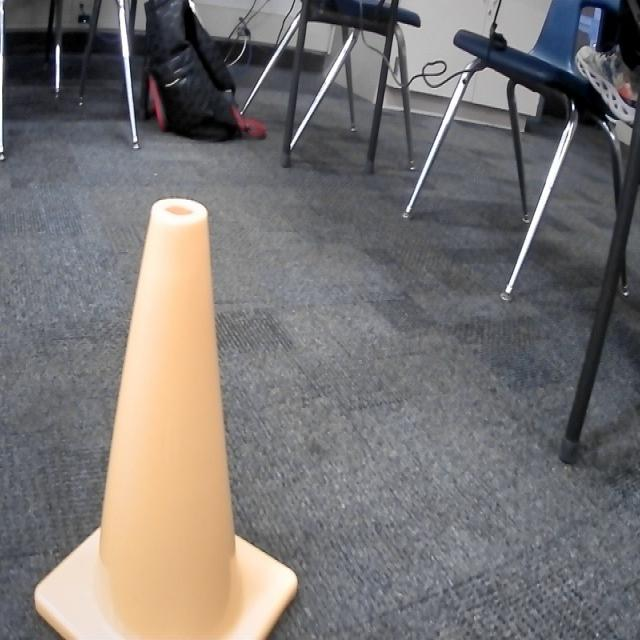cone: (28, 192, 301, 640)
